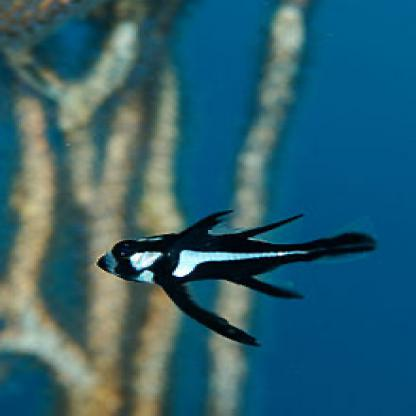snapper: (92, 203, 379, 349)
